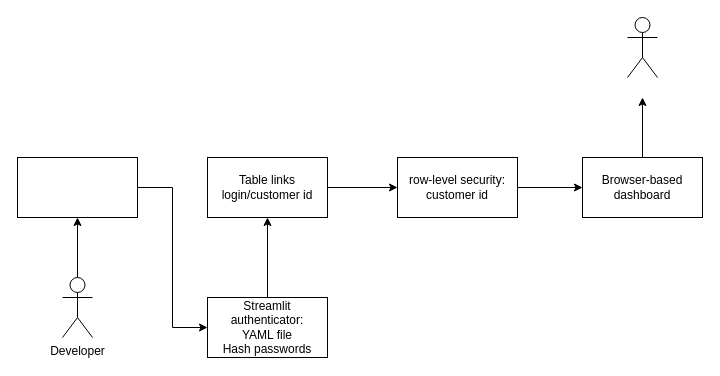
This 720x376 diagram has some shape labels left out. Here are the shapes that lost their labels. From the top down, the box of each, then its label:
(626, 16, 658, 78): Customer
(16, 156, 138, 218): Frontend portal for login
